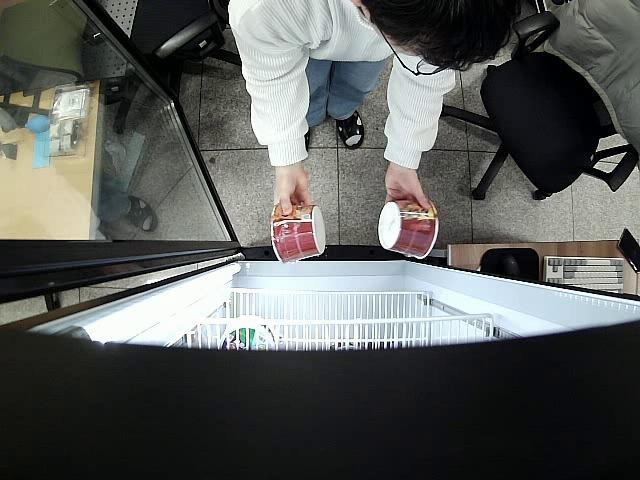05_nuguri_L: (378, 200, 439, 262), (270, 198, 326, 265)
